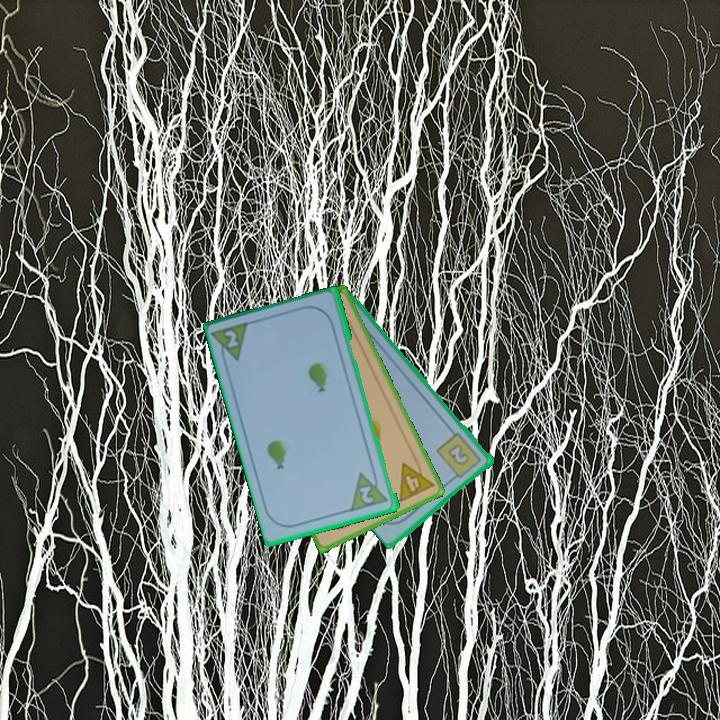2b: (433, 429, 485, 484)
2p: (356, 483, 377, 507), (222, 326, 242, 351)
4p: (395, 454, 437, 505)
